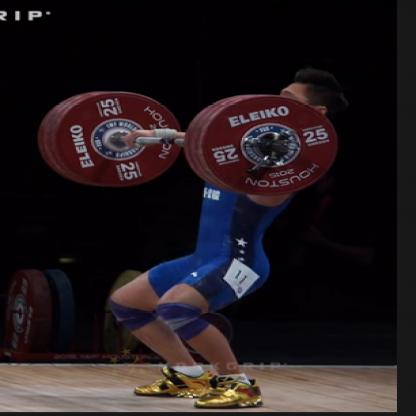Barbell: (182, 90, 347, 203)
